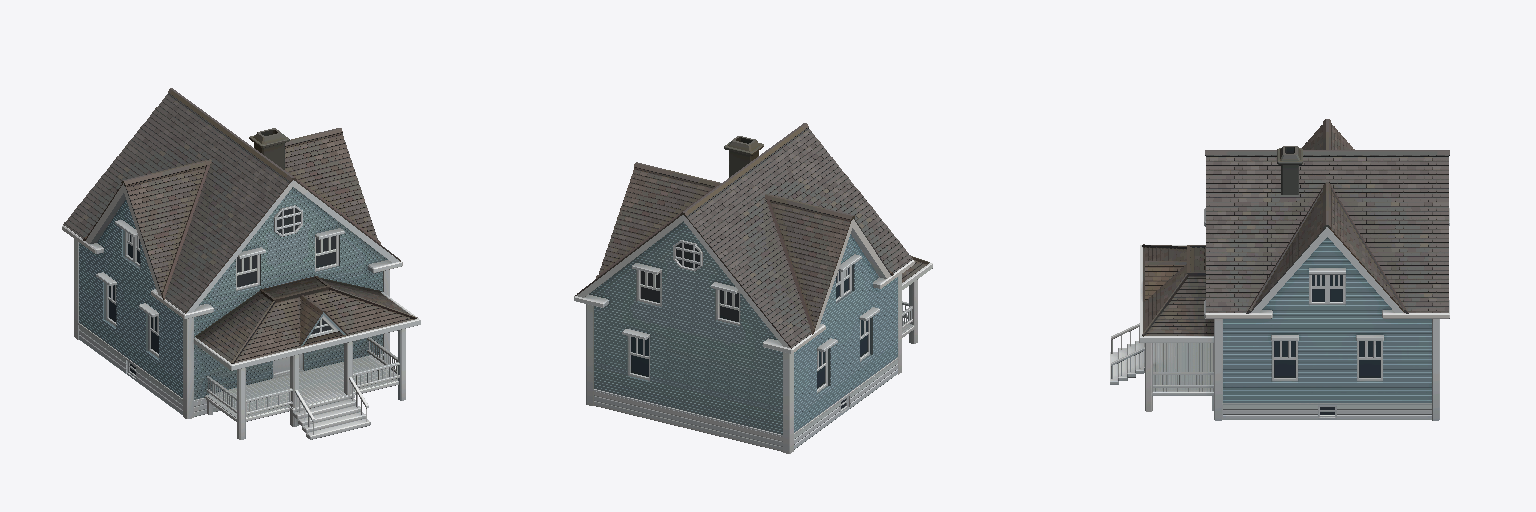
3 views of the same model, side by side, from view 1: azimuth 30°, elevation 25°; view 2: azimuth 150°, elevation 25°; view 3: azimuth 270°, elevation 25° (orthographic).
Visible parts, largest first — view 1: node_id5; view 2: node_id5; view 3: node_id5.
Boxes of the visible parts, box(x1,y1,x2,y2) form: node_id5: box(62, 88, 420, 439); node_id5: box(574, 123, 932, 453); node_id5: box(1110, 119, 1449, 420).
Bounding box in the file's own units: 0.201 × 0.2016 × 0.2711.
Materials: 1 (1 with a texture image).